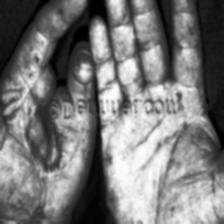Potentially Malignant Skin Tumors: (122, 28, 140, 78), (32, 47, 42, 73), (50, 8, 64, 24)
